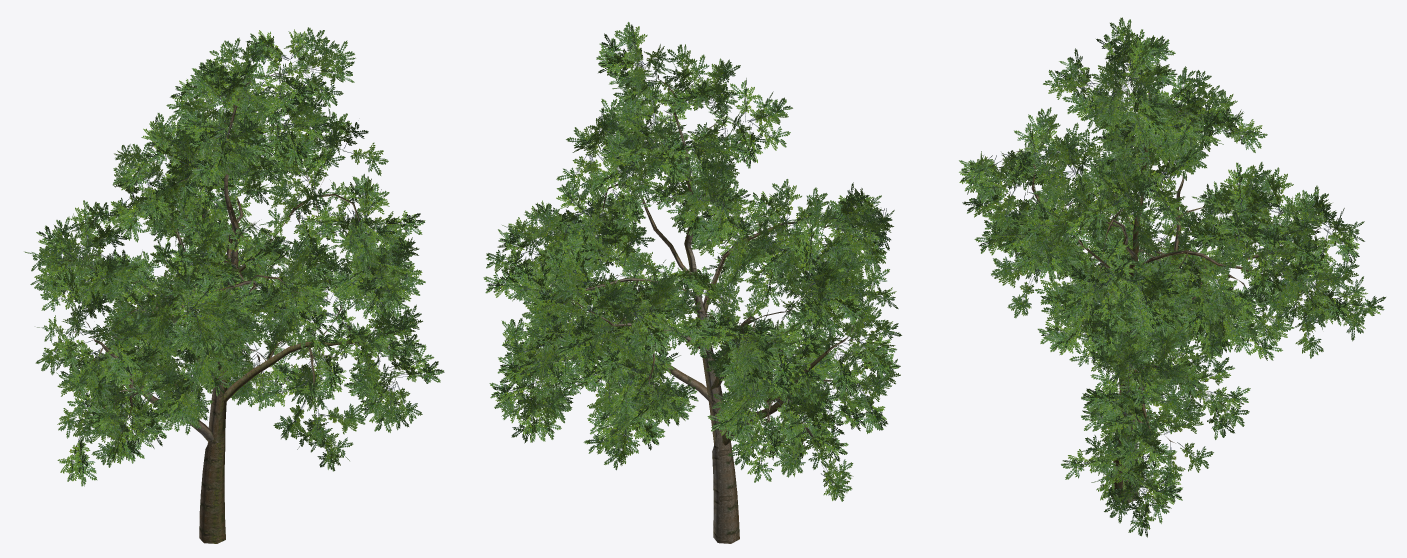
Rendered from large-b.glb.
The picture shows the model from 3 angles, left to right: view 1: azimuth 30°, elevation 25°; view 2: azimuth 150°, elevation 25°; view 3: azimuth 270°, elevation 25°; orthographic projection.
Parts seen in each view (by area): view 1: large-b; view 2: large-b; view 3: large-b.
Part boxes in pixels (x1,y1,x2,y2): large-b: (24, 27, 444, 543); large-b: (483, 22, 901, 543); large-b: (959, 17, 1385, 537).
Bounding box in the file's own units: 7.01 × 8.11 × 6.61.
Materials: 2 (2 with a texture image).
